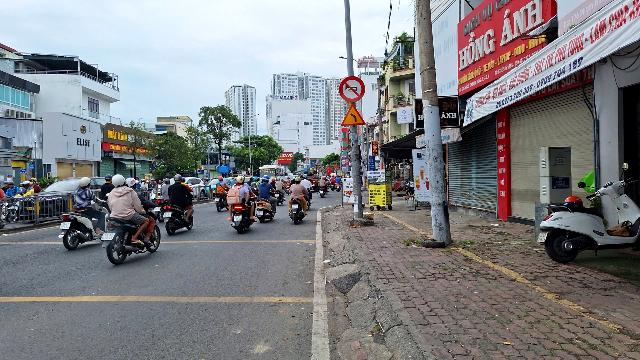cam-bop-coi: (339, 76, 365, 103)
cho-ngoat-nguy-hiem-ben-trai: (340, 104, 366, 126)
